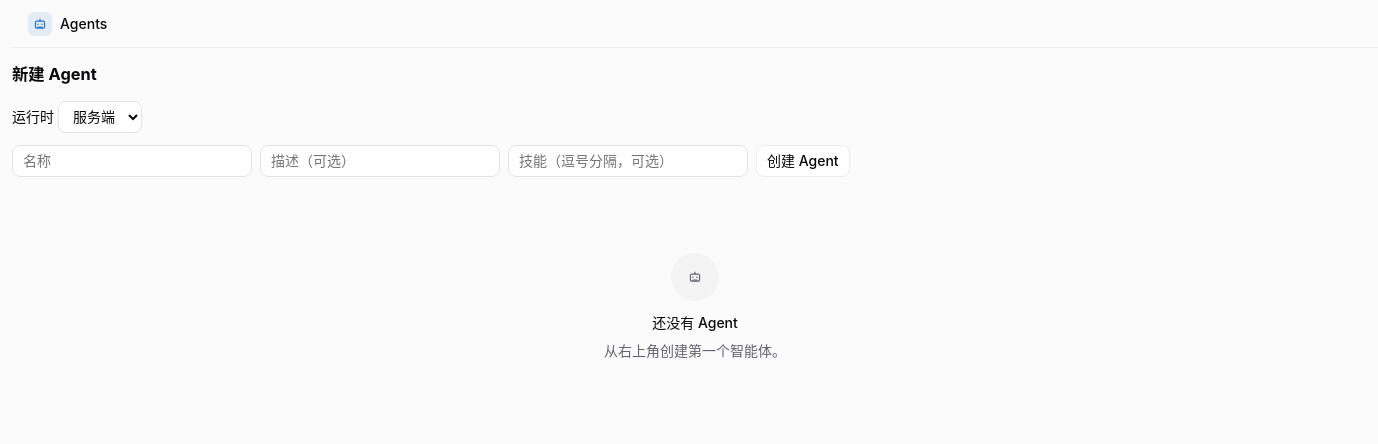
Test: AgentsPage › registers a local-runtime agent and shows the one-time token
Expected: the field with test id "agent-name" is shown, [12,145,252,177]
Select "本地" in the dropdown with test id "agent-runtime": (100, 117) [58,101,142,133]
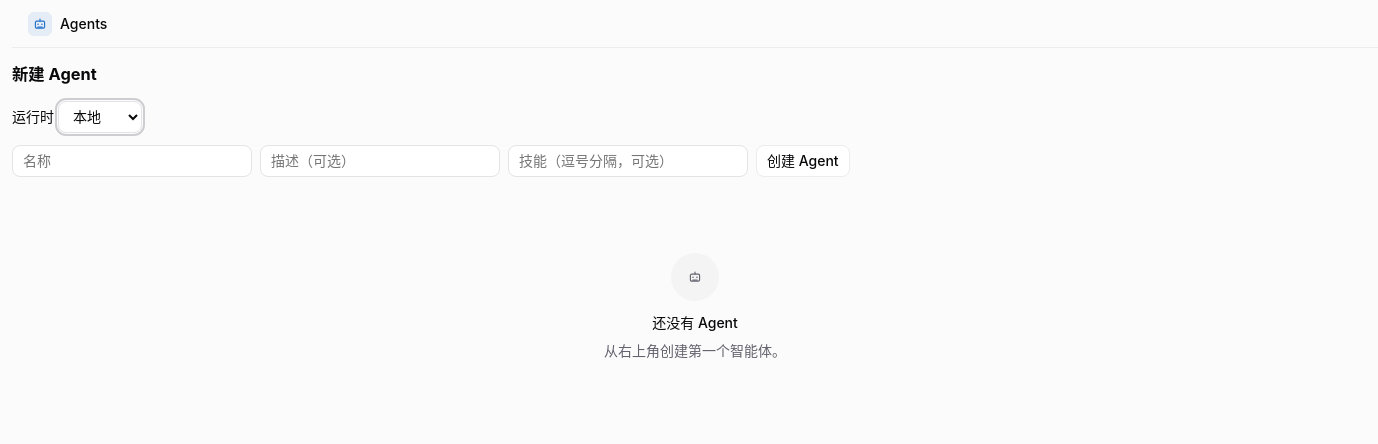
In the field with test id "agent-name": (132, 161) [12,145,252,177], type "local-bot"
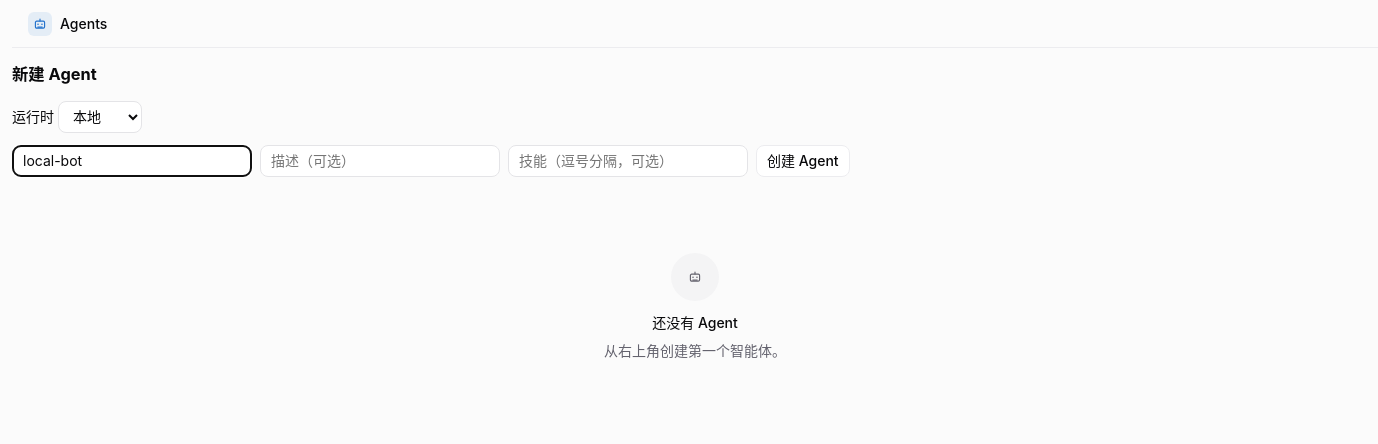
Click the button with test id "create-agent": (803, 161) [756,145,850,177]
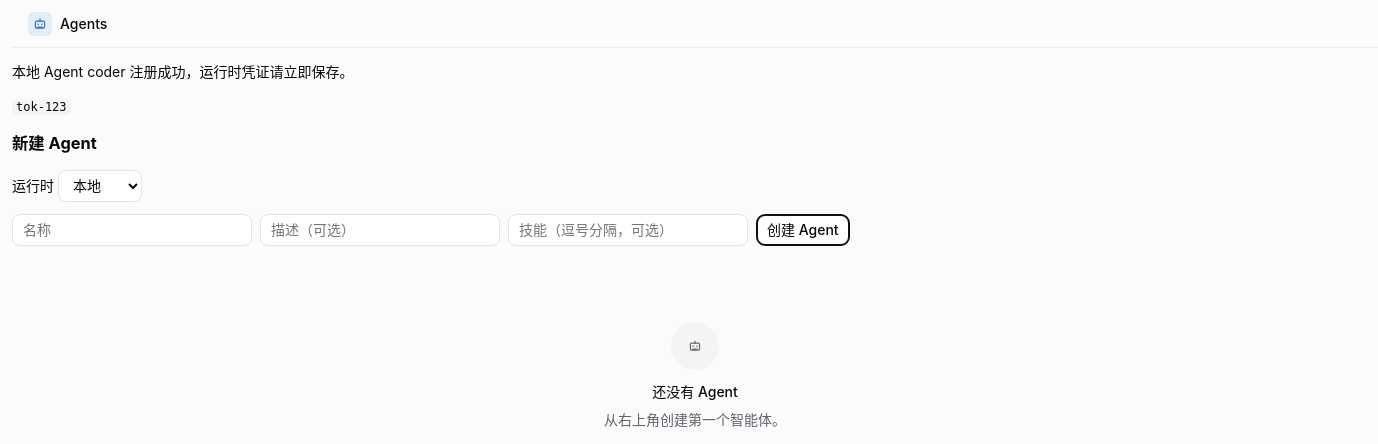
Expected: the element with test id "register-token" reads "tok-123", [16,100,67,114]
